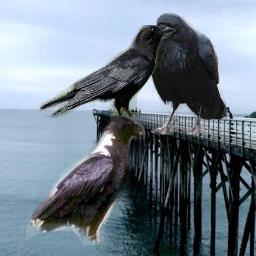Crow: (26, 111, 146, 245), (39, 25, 176, 121), (142, 12, 228, 135)
